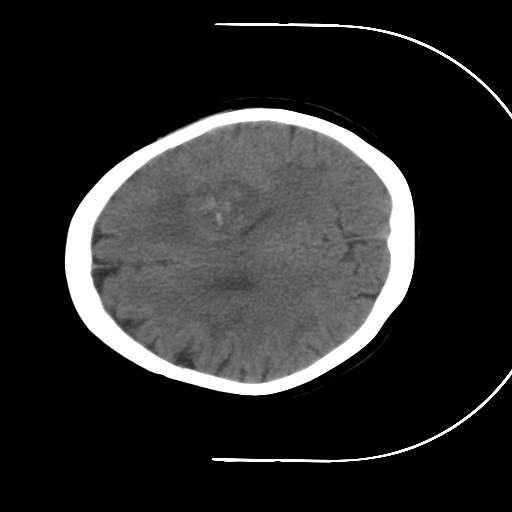a: (171, 166, 257, 240)
